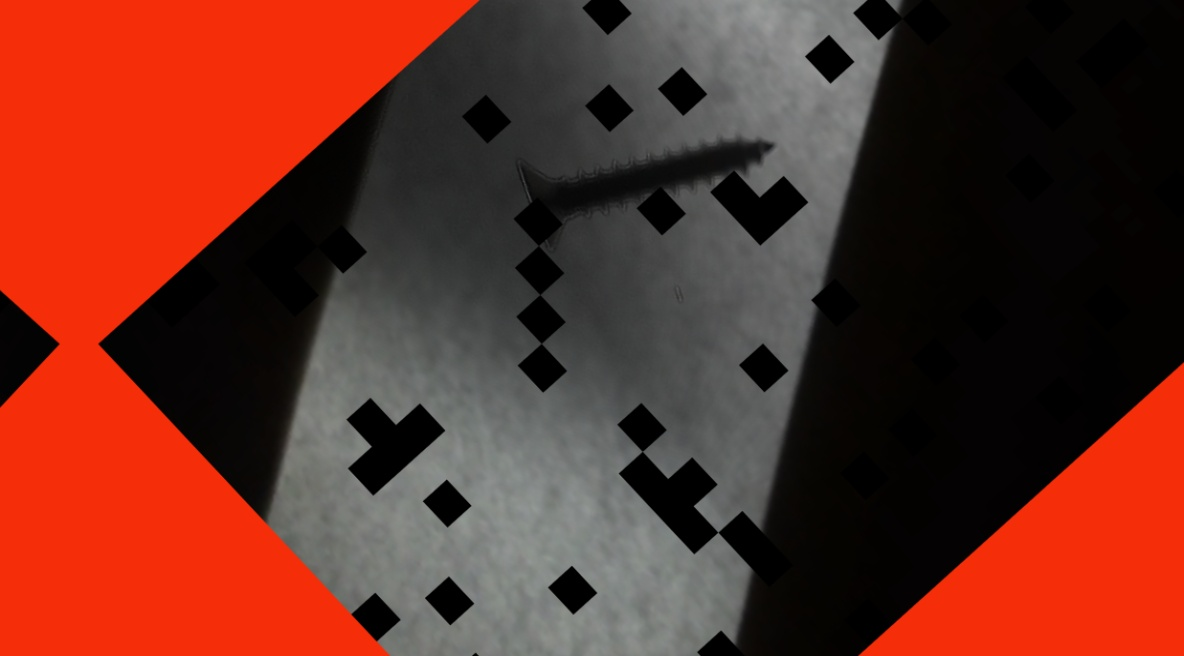S001: (477, 2, 808, 334)
